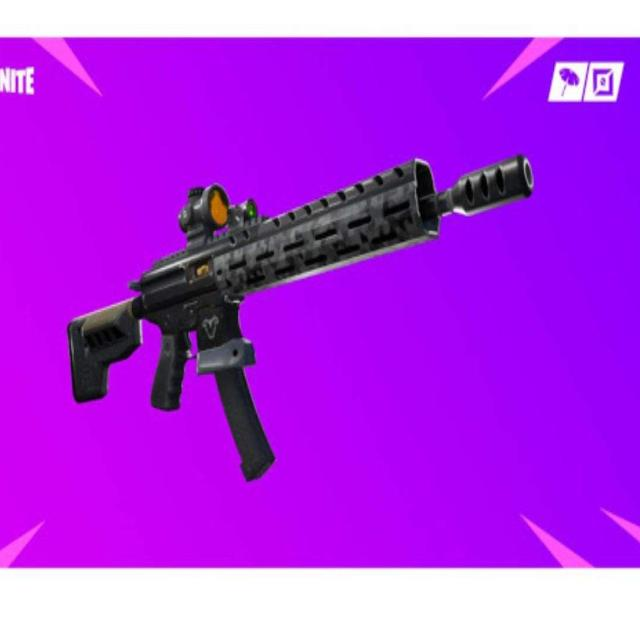Weapon: (67, 154, 533, 480)
